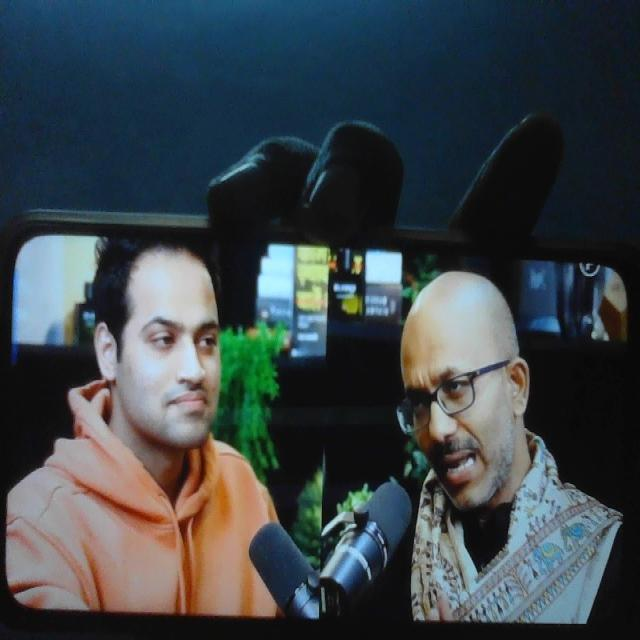fake: (102, 209, 232, 456), (395, 257, 523, 499)
